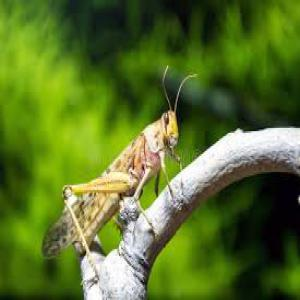locust: (41, 70, 194, 262)
